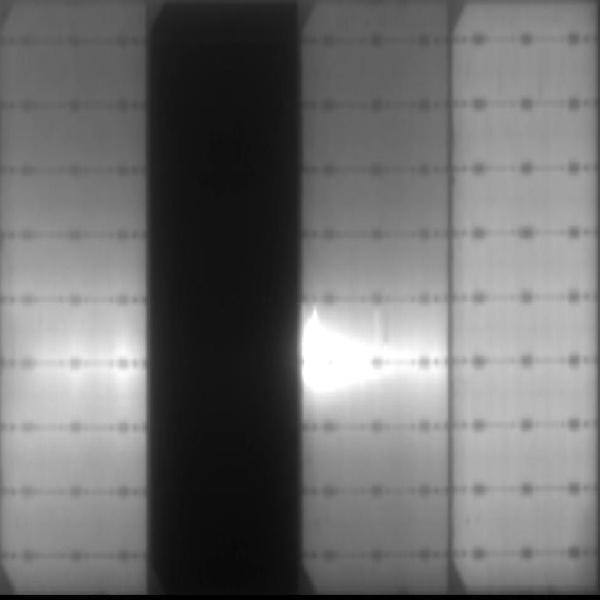hot_spot: (301, 319, 336, 396), (338, 332, 370, 390), (374, 345, 403, 360)
no_electricity: (154, 6, 297, 590)
